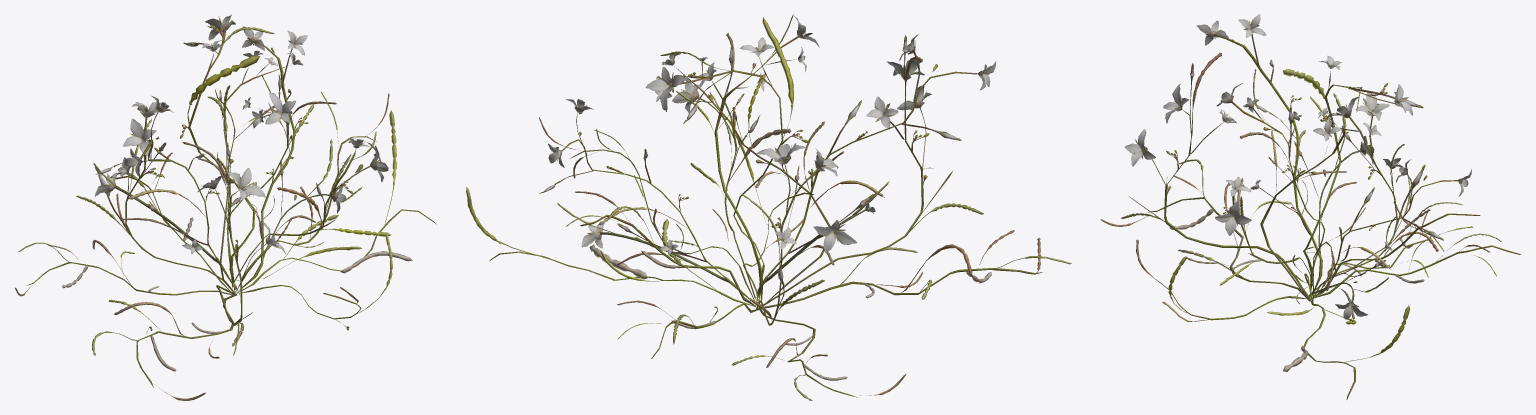
Rendered from cc0_heliophila_a.glb.
The picture shows the model from 3 angles, left to right: view 1: azimuth 30°, elevation 25°; view 2: azimuth 150°, elevation 25°; view 3: azimuth 270°, elevation 25°; orthographic projection. The views are drawn at different scales.
Parts seen in each view (by area): view 1: cc0_heliophila_a; view 2: cc0_heliophila_a; view 3: cc0_heliophila_a.
Boxes of the visible parts, x1,y1,x2,y2 form: cc0_heliophila_a: [15, 14, 436, 400]; cc0_heliophila_a: [466, 14, 1071, 400]; cc0_heliophila_a: [1100, 14, 1520, 399].
Bounding box in the file's own units: 0.7135 × 0.3976 × 0.6345.
1 material, 1 textured.
